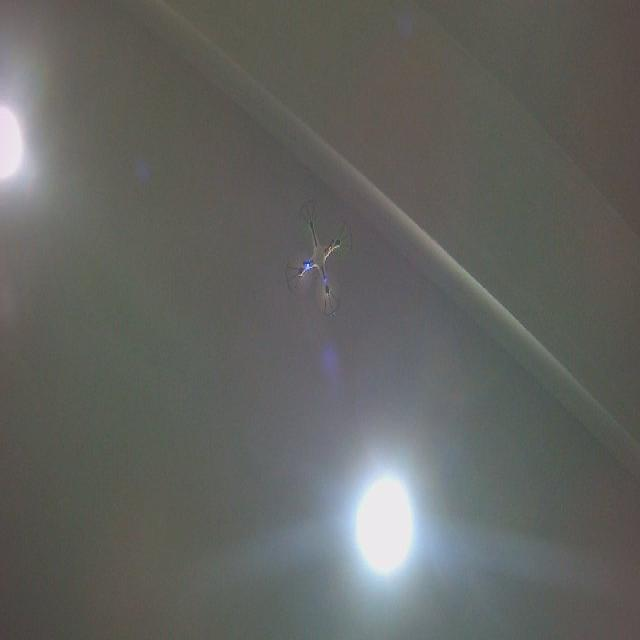drone: (283, 196, 355, 320)
